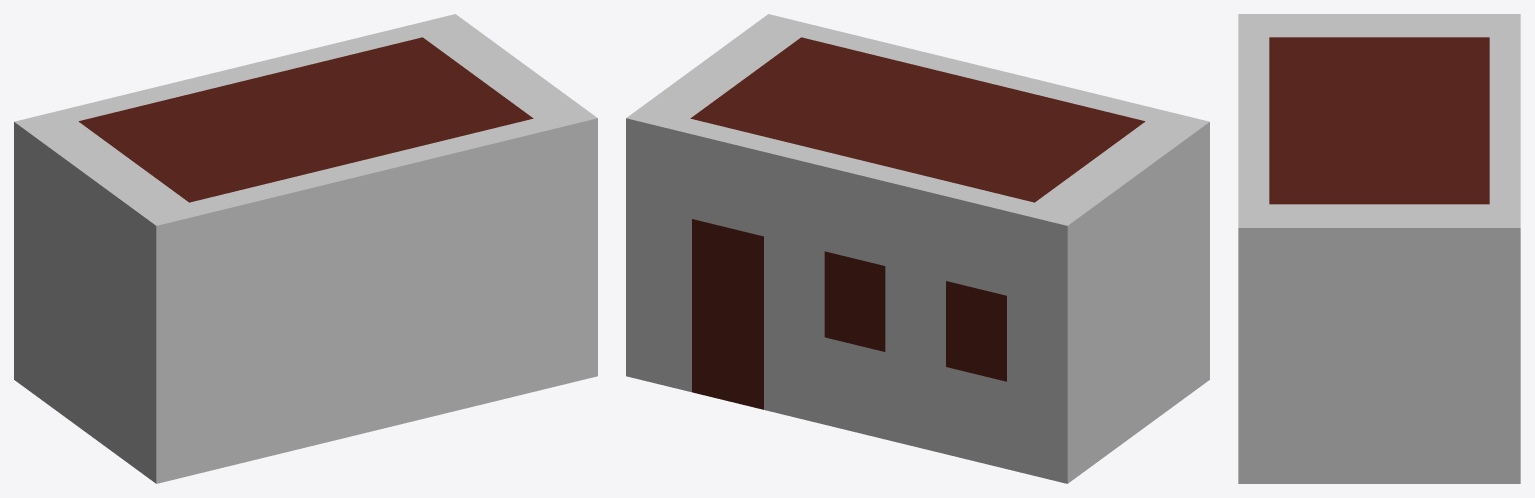
File: house 2.fbx
The picture shows the model from 3 angles, left to right: view 1: azimuth 30°, elevation 25°; view 2: azimuth 150°, elevation 25°; view 3: azimuth 270°, elevation 25°; orthographic projection.
Parts seen in each view (by area): view 1: Cube.002; view 2: Cube.002; view 3: Cube.002.
Boxes of the visible parts, <box> form: Cube.002: <box>14,14,597,483</box>; Cube.002: <box>626,14,1209,483</box>; Cube.002: <box>1238,14,1520,483</box>.
Bounding box in the file's own units: 358 × 200 × 200.
